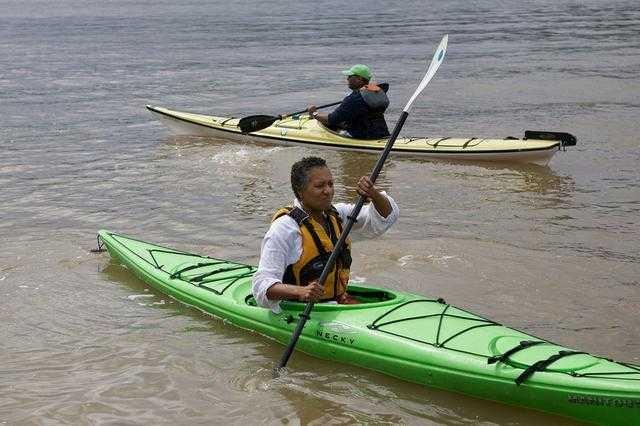kayak: (97, 230, 635, 420), (146, 104, 575, 164), (249, 70, 455, 143)
